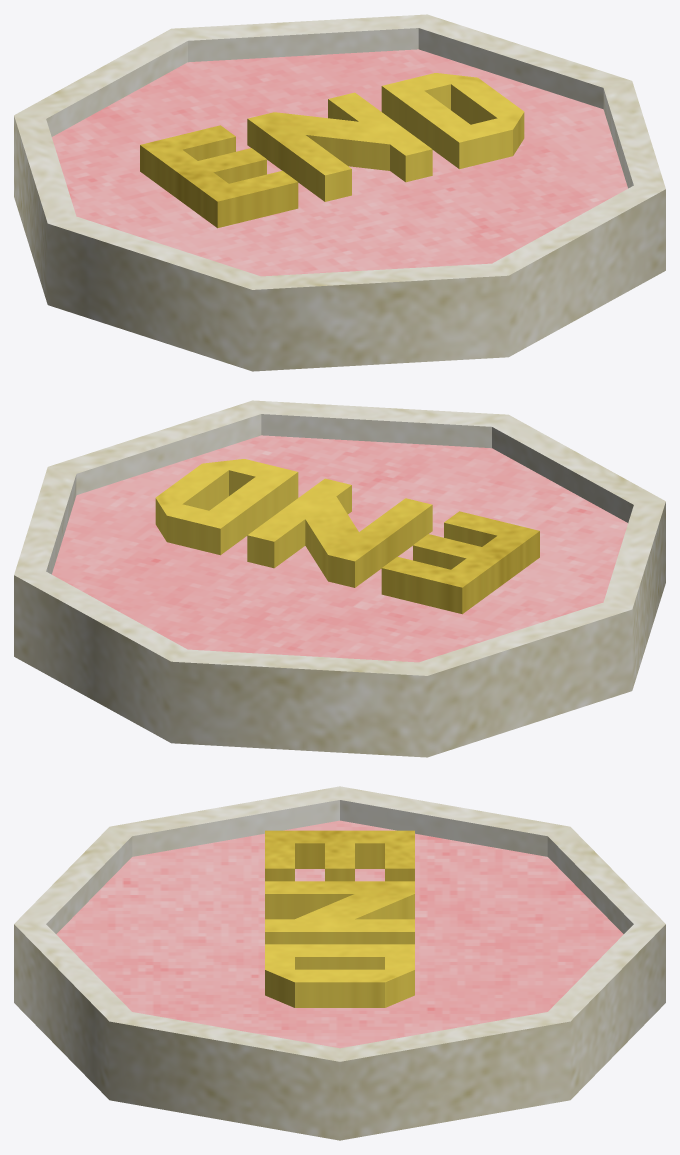
The model's file is End.fbx.
3 views of the same model, one above another, from view 1: azimuth 30°, elevation 25°; view 2: azimuth 150°, elevation 25°; view 3: azimuth 270°, elevation 25° (orthographic). The views are drawn at different scales.
Parts seen in each view (by area): view 1: Line005; view 2: Line005; view 3: Line005.
Part boxes in pixels (bbox=[...]): Line005: bbox=[14, 14, 665, 371]; Line005: bbox=[14, 400, 665, 757]; Line005: bbox=[14, 786, 665, 1140].
Bounding box in the file's own units: 35.43 × 5.78 × 35.43.
1 material, 1 textured.
